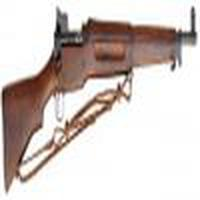gun: (1, 20, 194, 163)
